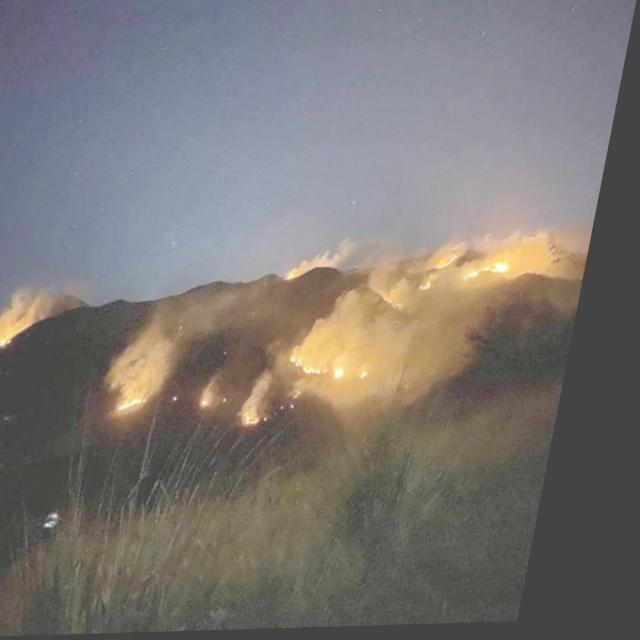Fire: (302, 355, 341, 378), (474, 264, 518, 282), (11, 322, 41, 347), (134, 400, 162, 412), (446, 258, 468, 272), (262, 413, 278, 427), (346, 369, 363, 382), (429, 283, 445, 295), (371, 370, 385, 383), (298, 272, 310, 284)
